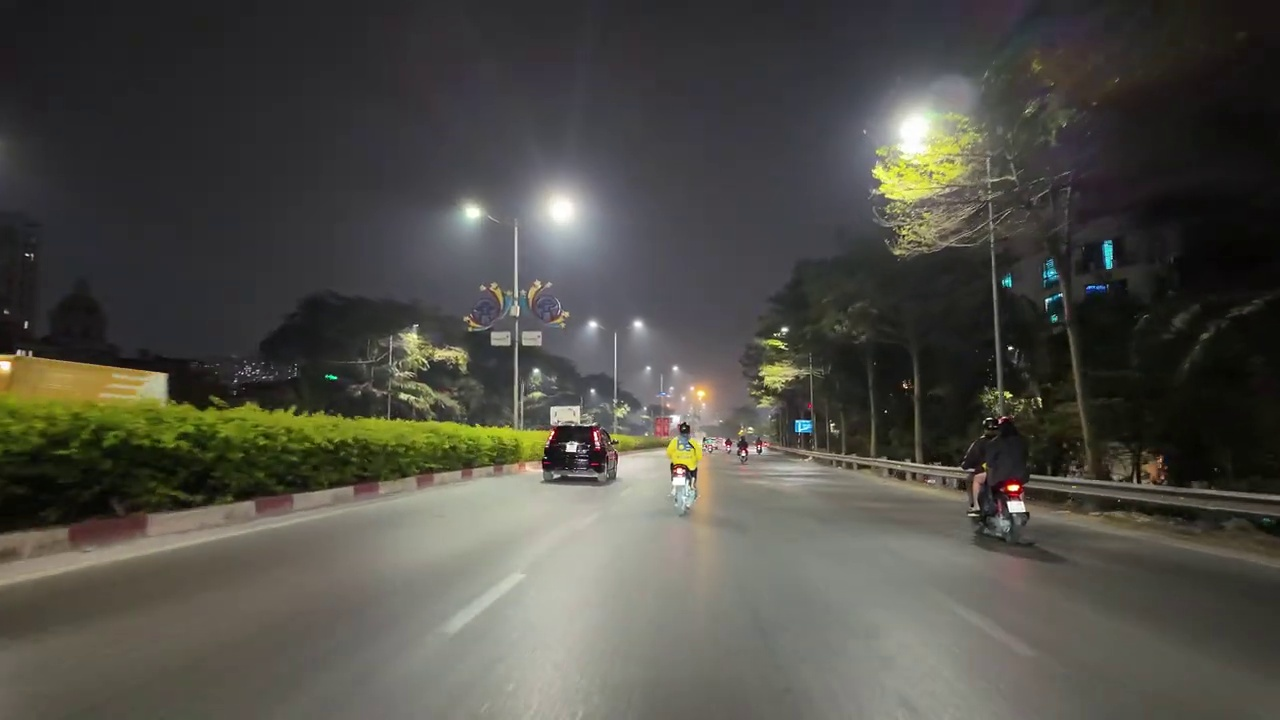acesa: (894, 108, 947, 156), (542, 191, 577, 225), (458, 198, 488, 227), (627, 315, 651, 343), (690, 383, 714, 407)
